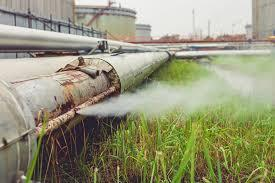leak: (69, 78, 190, 110)
